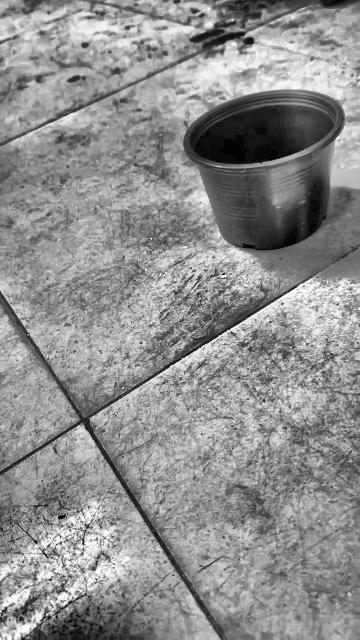pot: (183, 89, 345, 250)
